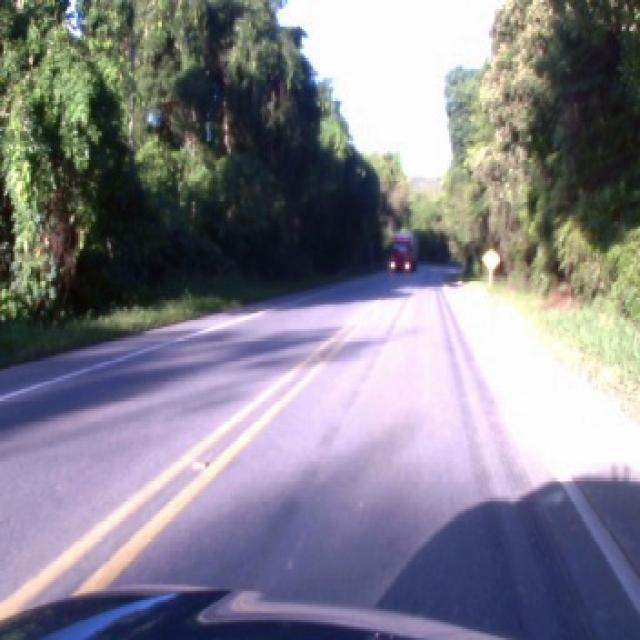Poth-hole: (189, 458, 207, 469)
